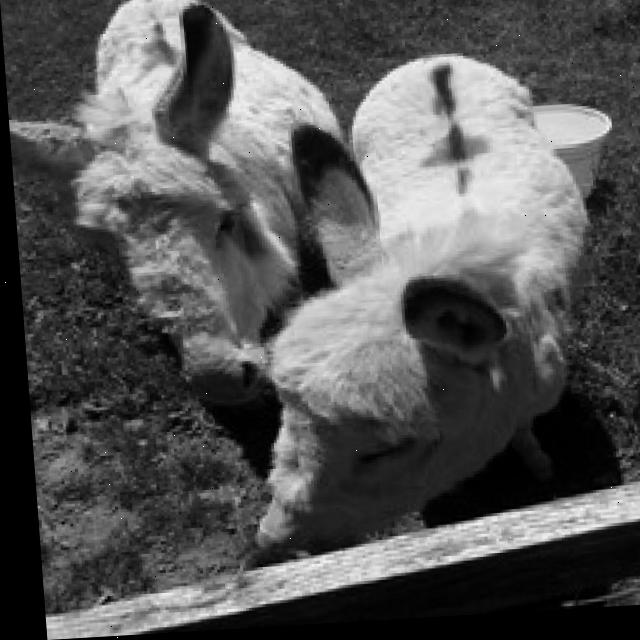Donkey: (214, 43, 614, 562), (0, 0, 388, 420)
